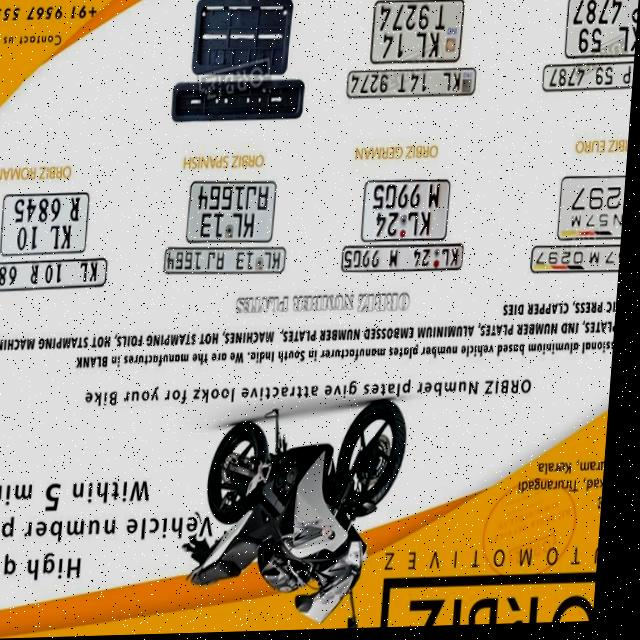plate: (365, 0, 471, 71), (358, 177, 458, 248), (1, 189, 98, 259), (185, 180, 285, 247), (341, 64, 484, 105), (164, 243, 294, 283), (562, 0, 639, 67), (558, 176, 629, 248), (341, 243, 473, 281), (0, 255, 118, 297), (531, 242, 625, 282), (541, 64, 635, 96)
